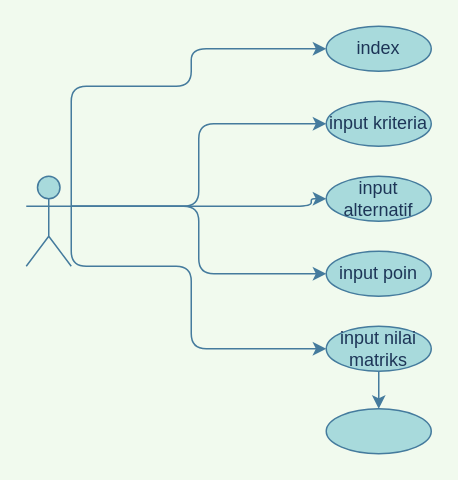
The diagram is 458 pixels wide and 480 high, and some of its shapes have lost their labels. Here are the shapes that lost their labels. From the top down, the centre of each, then its label:
At point 48,220: "Actor".
At point 378,430: "hasil topsis".
